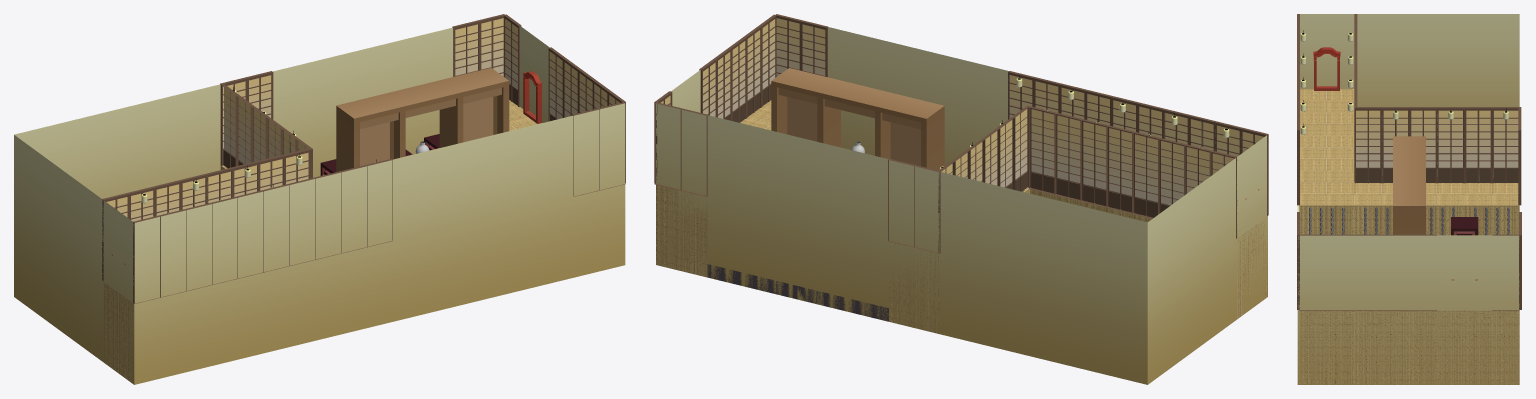
The model's file is Tutorial_03.fbx.
3 renders of one model, left to right at view 1: azimuth 30°, elevation 25°; view 2: azimuth 150°, elevation 25°; view 3: azimuth 270°, elevation 25°, orthographic. The views are drawn at different scales.
Visible parts, largest first — view 1: Background_04, shelf_01, screenWall_02, screenWall_06, Base_01, screenWall_05, screenWall_03, screenWall_01, screenWall_004, screenwall_09, polySurface340, polySurface339 (+2 smaller); view 2: Background_04, screenWall_02, shelf_01, screenWall_01, Base_04, screenWall_03, Base_02, screenwall_07, screenwall_08, Base_01, screenwall_09, spikeTrap_01 (+4 smaller); view 3: Background_04, Base_04, Base_01, screenWall_03, Base_02, screenWall_05, shelf_01, spikeTrap_01, screenWall_01, flower_PL_01, doorStart_01, screenWall_02 (+3 smaller).
Part boxes in pixels (x1,y1,x2,y2): Background_04: [14, 26, 625, 384]; shelf_01: [336, 68, 509, 171]; screenWall_02: [102, 148, 310, 280]; screenWall_06: [452, 14, 504, 76]; Base_01: [103, 282, 133, 383]; screenWall_05: [222, 84, 253, 168]; screenWall_03: [250, 105, 312, 178]; screenWall_01: [133, 158, 392, 303]; screenWall_004: [220, 71, 273, 165]; screenwall_09: [563, 58, 595, 117]; polySurface340: [504, 14, 521, 106]; polySurface339: [548, 47, 565, 121]; Background_04: [656, 27, 1267, 384]; screenWall_02: [1028, 106, 1237, 238]; shelf_01: [771, 68, 944, 170]; screenWall_01: [1008, 71, 1268, 215]; Base_04: [656, 100, 771, 277]; screenWall_03: [967, 105, 1029, 191]; Base_02: [889, 187, 1030, 334]; screenwall_07: [775, 14, 827, 77]; screenwall_08: [744, 14, 776, 117]; Base_01: [1030, 189, 1267, 318]; screenwall_09: [714, 36, 746, 122]; spikeTrap_01: [707, 264, 888, 321]; Background_04: [1297, 14, 1519, 384]; Base_04: [1299, 310, 1519, 384]; Base_01: [1299, 89, 1354, 234]; screenWall_03: [1354, 107, 1464, 183]; Base_02: [1354, 183, 1519, 235]; screenWall_05: [1464, 107, 1518, 183]; shelf_01: [1393, 136, 1425, 234]; spikeTrap_01: [1309, 207, 1509, 235]; screenWall_01: [1297, 14, 1299, 205]; flower_PL_01: [1451, 217, 1478, 235]; doorStart_01: [1313, 47, 1340, 90]; screenWall_02: [1354, 14, 1357, 181].
Bounding box in the file's own units: 38.11 × 12.1 × 16.32.
